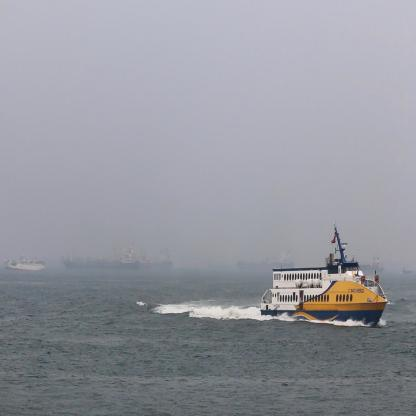Container Ship: (61, 247, 136, 272), (235, 252, 294, 266), (2, 254, 45, 272), (148, 250, 176, 272), (360, 258, 384, 273), (136, 255, 146, 271), (401, 266, 413, 274)
